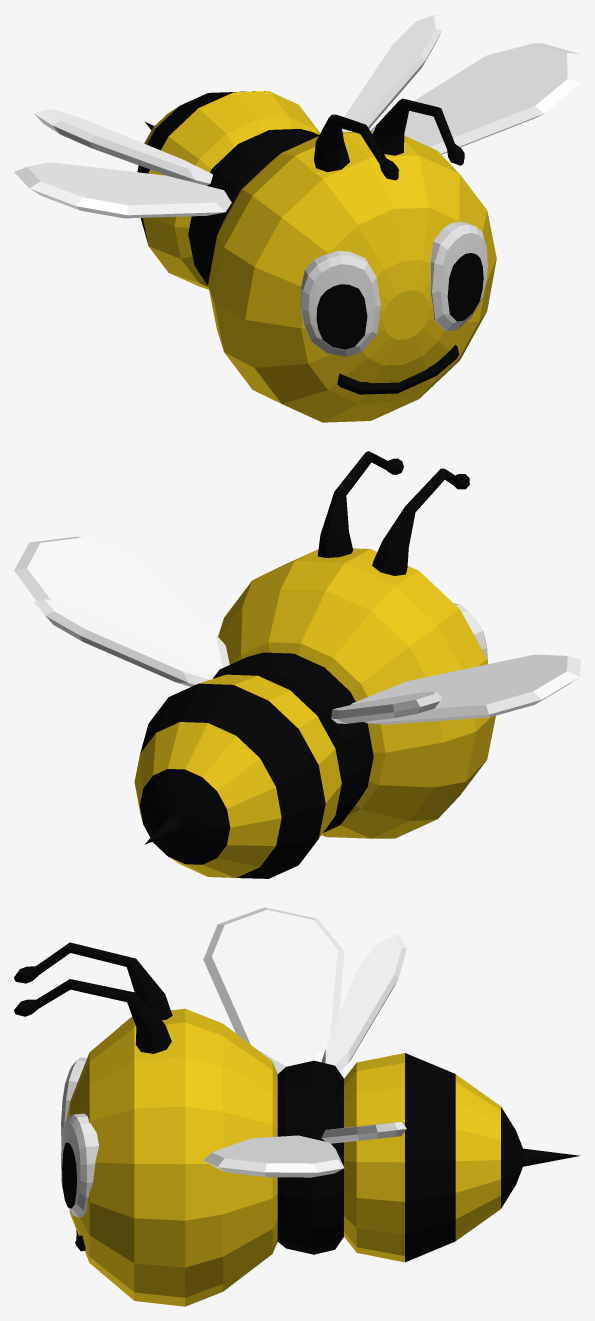
File: bee.fbx
3 views of the same model, one above another, from view 1: azimuth 30°, elevation 25°; view 2: azimuth 150°, elevation 25°; view 3: azimuth 270°, elevation 25° (orthographic).
Visible parts, largest first — view 1: Body, Wings, Face, Mouth; view 2: Body, Wings, Face; view 3: Body, Wings, Face.
Part boxes in pixels (x1,y1,x2,y2): Body: (137, 91, 496, 422); Wings: (14, 14, 580, 218); Face: (300, 98, 487, 356); Mouth: (337, 345, 459, 394); Body: (134, 548, 495, 878); Wings: (14, 536, 580, 724); Face: (318, 451, 487, 661); Body: (66, 1008, 580, 1306); Wings: (203, 907, 406, 1177); Face: (14, 942, 172, 1217).
Size of the model in its own units: 328 by 191 by 297.
